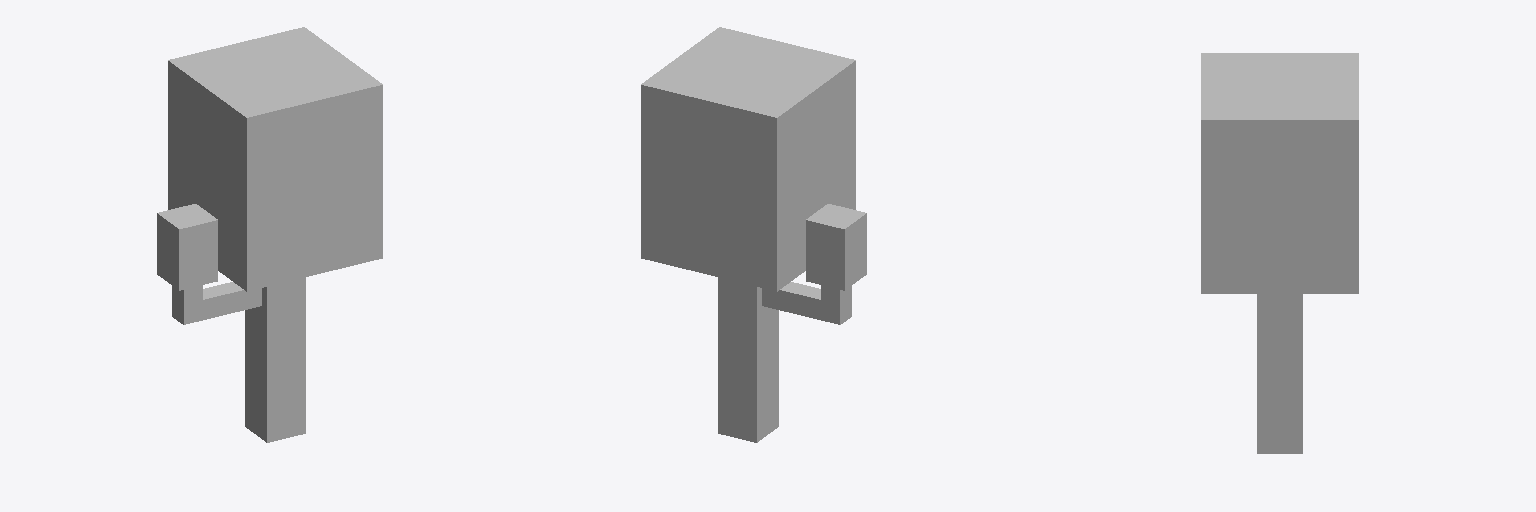
Rendered from tree_3.obj.
3 views of the same model, side by side, from view 1: azimuth 30°, elevation 25°; view 2: azimuth 150°, elevation 25°; view 3: azimuth 270°, elevation 25° (orthographic).
Visible parts, largest first — view 1: object 1; view 2: object 1; view 3: object 1.
Part boxes in pixels (x1,y1,x2,y2): object 1: (157, 27, 382, 442); object 1: (641, 27, 866, 442); object 1: (1201, 53, 1358, 453).
Size of the model in its own units: 1.8 by 3.5 by 1.4.